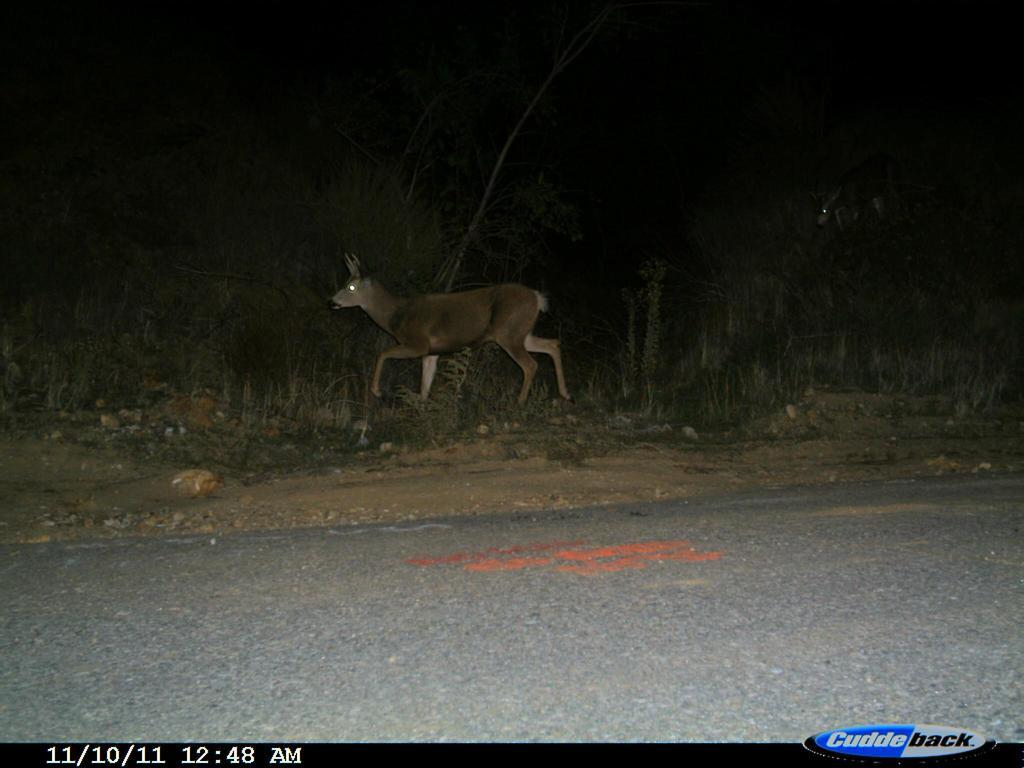deer: (318, 246, 592, 451), (804, 181, 981, 297)
